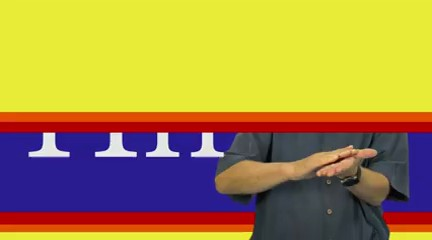H: (283, 133, 377, 186)
